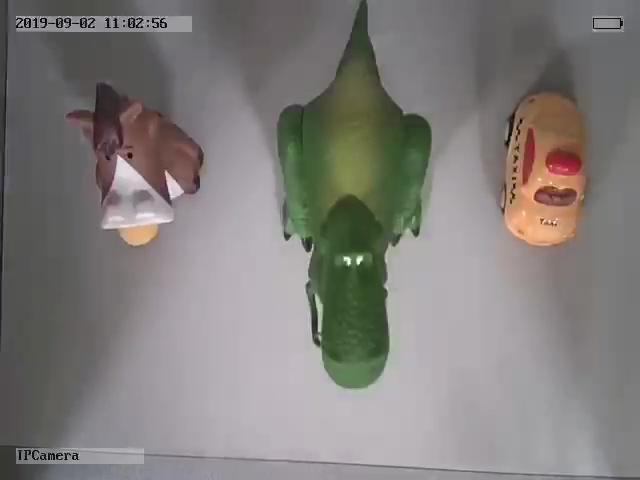car: (499, 88, 590, 247)
horse: (69, 83, 205, 247)
rex: (275, 2, 431, 391)
